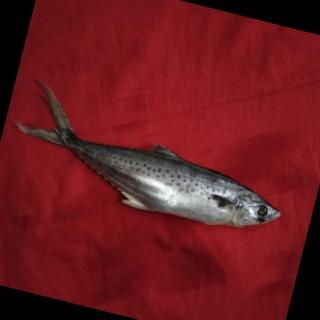Ikan: (4, 73, 304, 251)
